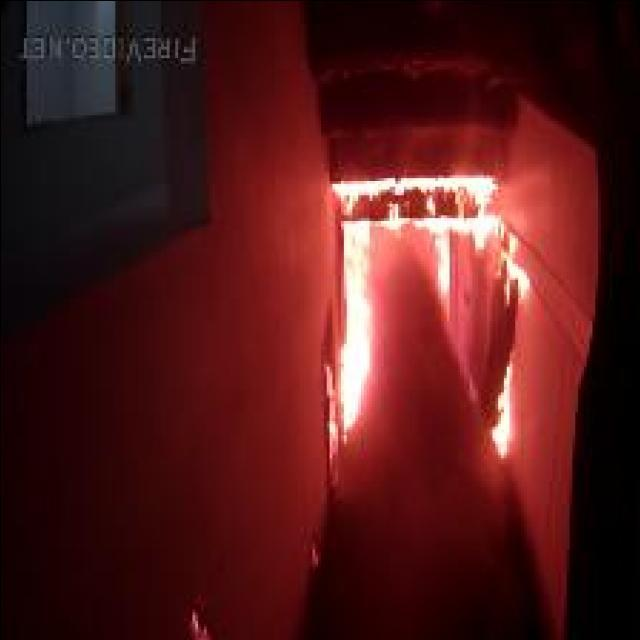Fire: (328, 182, 532, 444), (488, 360, 512, 460)
